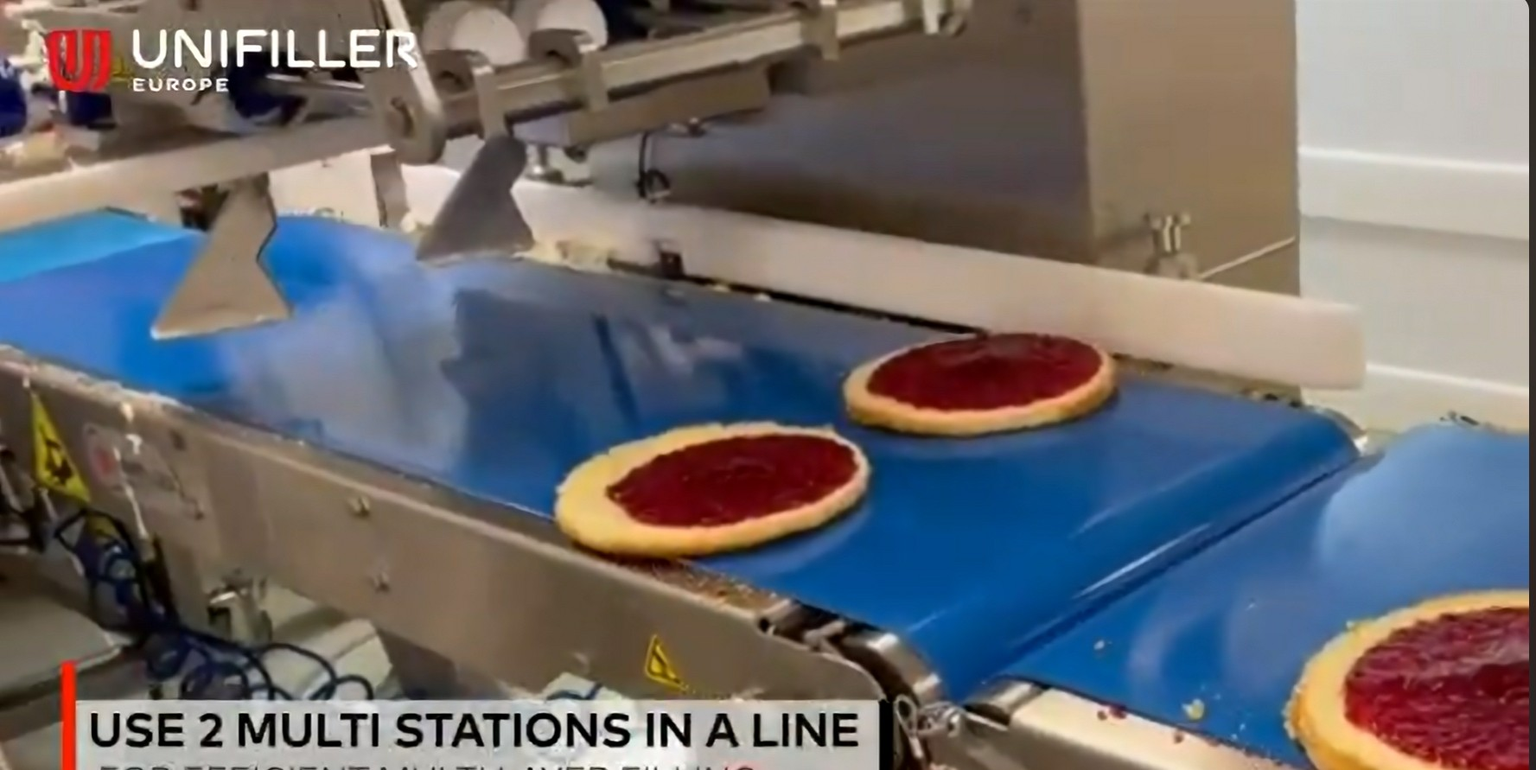Jam Coated: (1291, 587, 1530, 770), (550, 420, 868, 557), (844, 319, 1119, 430)
